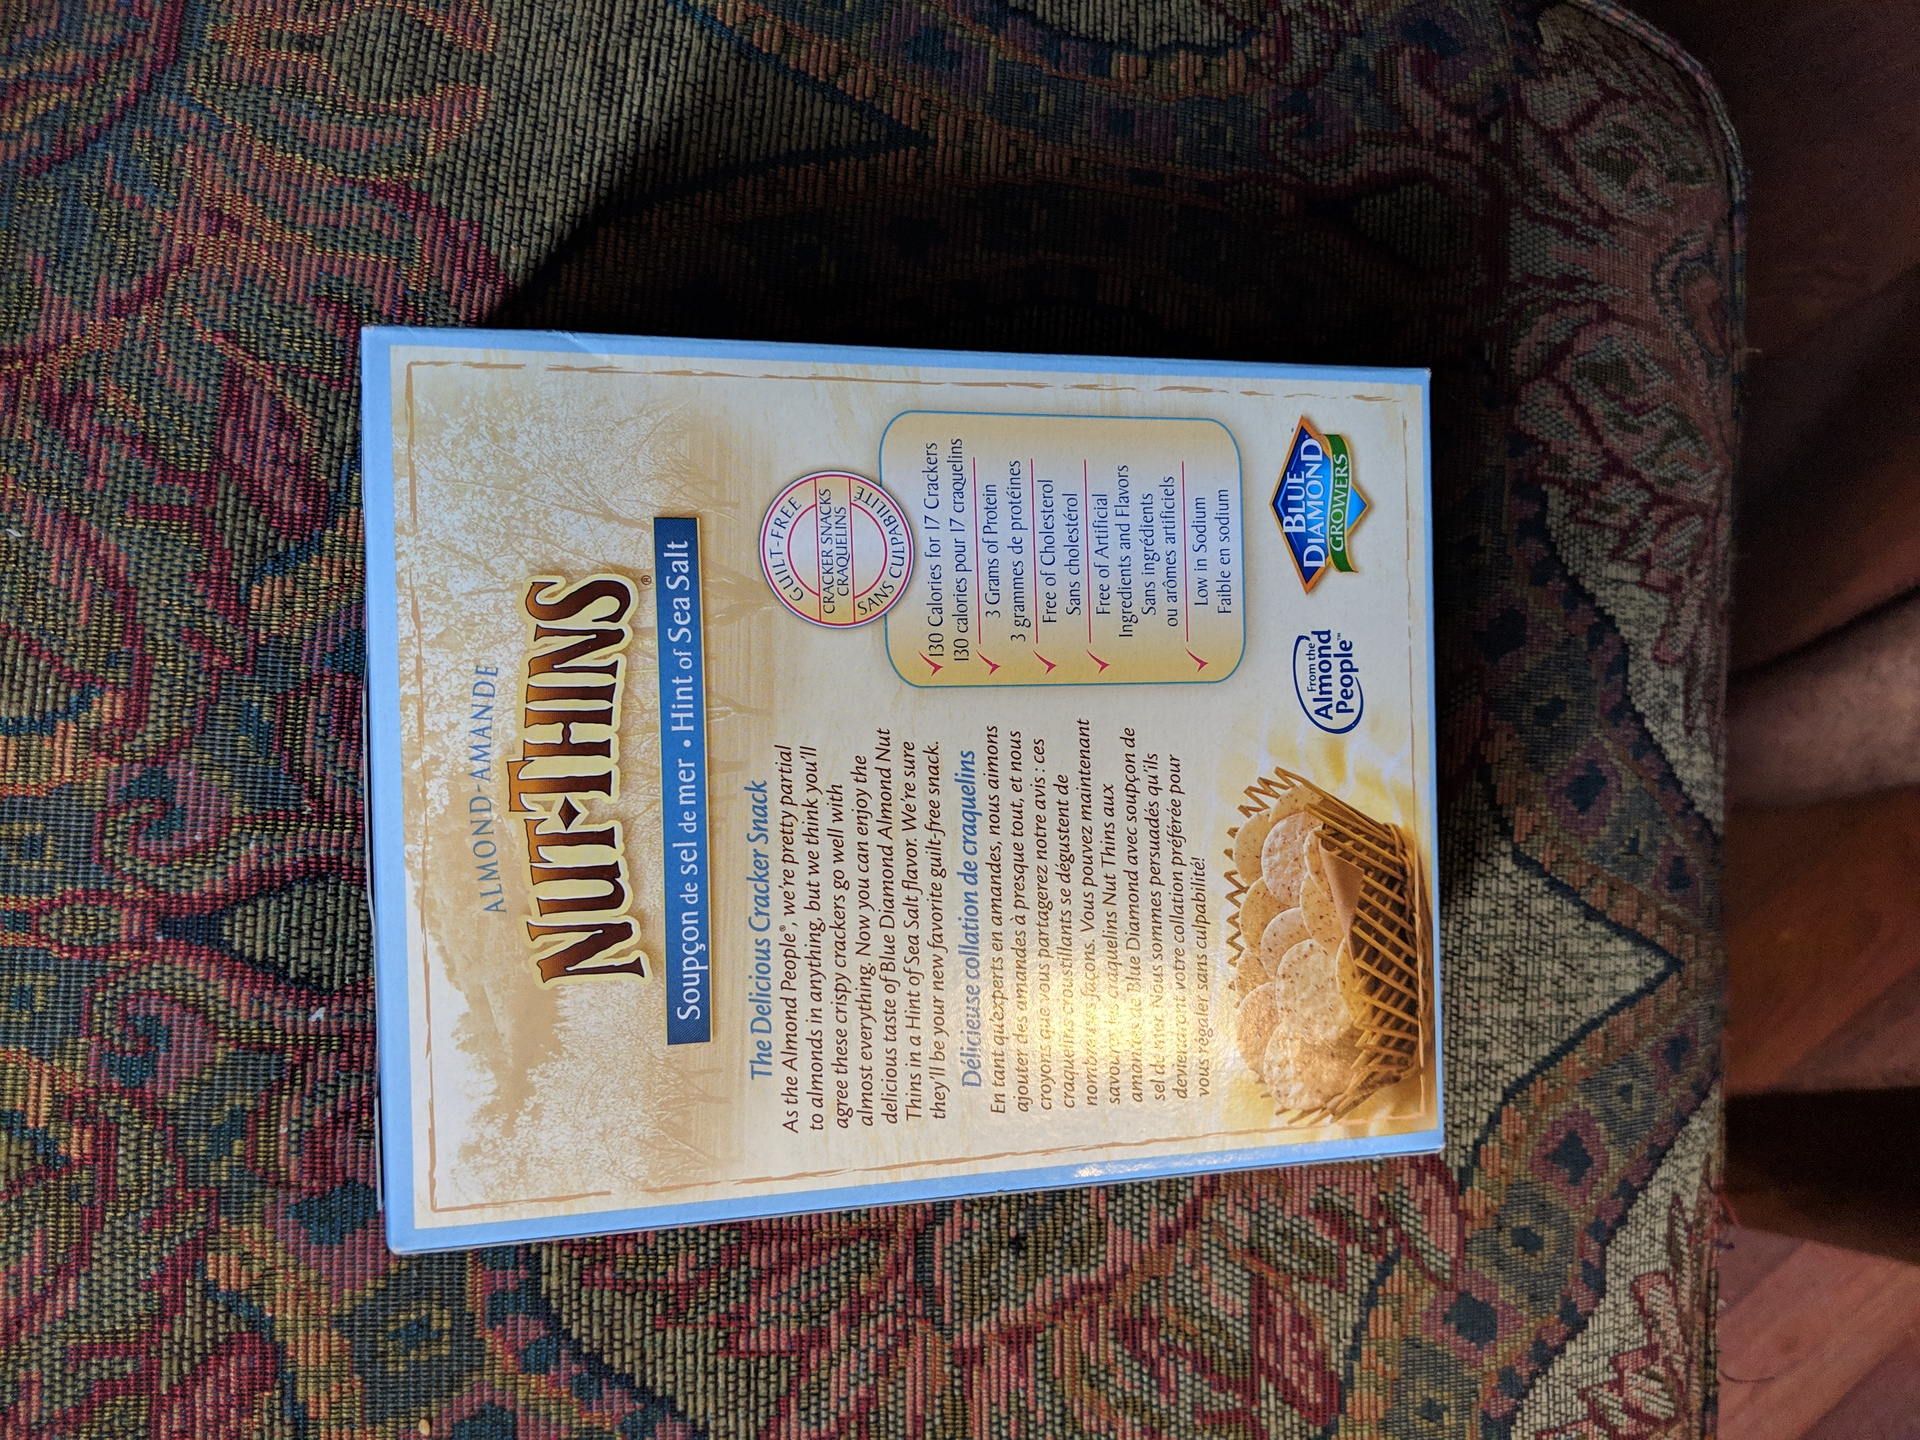blue_diamond_nut_thins_almond_seasalt: (360, 337, 1432, 1192)
